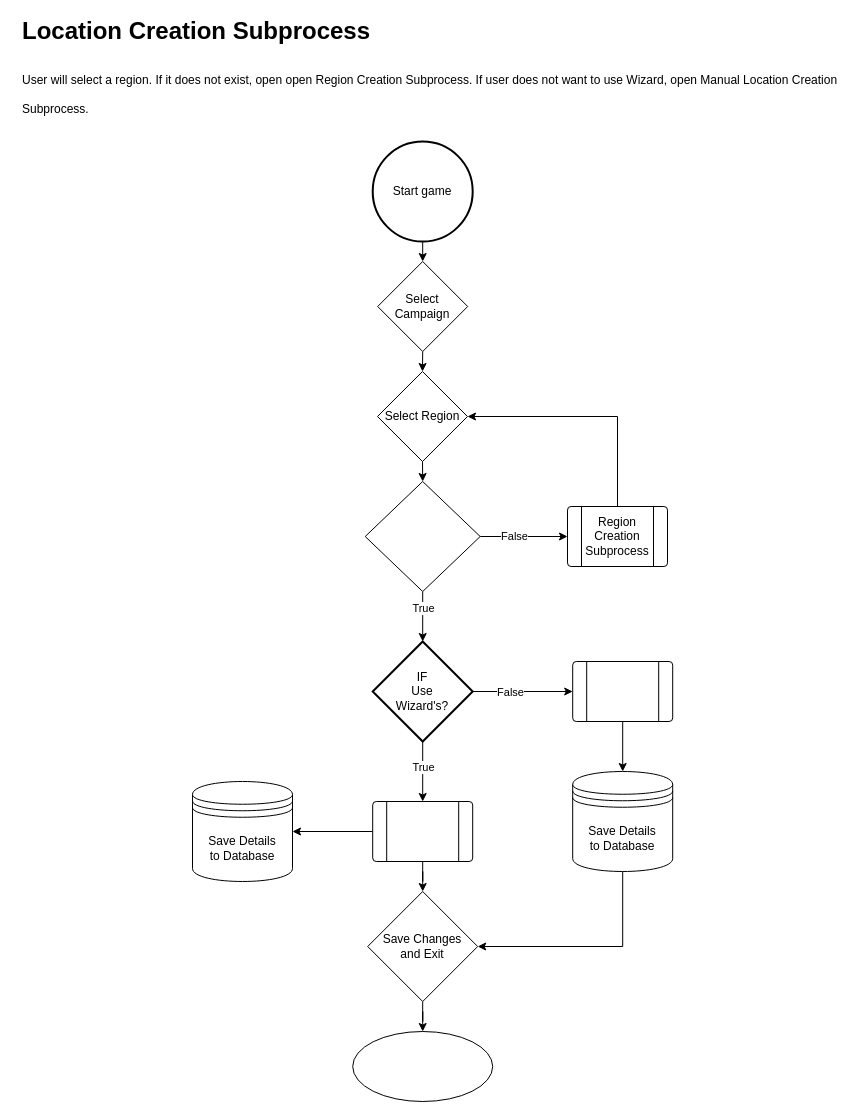
Image size: 864x1119. Some labels were removed from this diagram. The box of each missing label's shape, as (x1, y1, x2, y2) in pixels:
IF Region Choice Selected == True: (364, 480, 480, 592)
Manual Place editor: (572, 660, 673, 722)
Stop Location Creation Subprocess: (352, 1030, 493, 1102)
Wizard Place editor: (372, 800, 473, 862)
